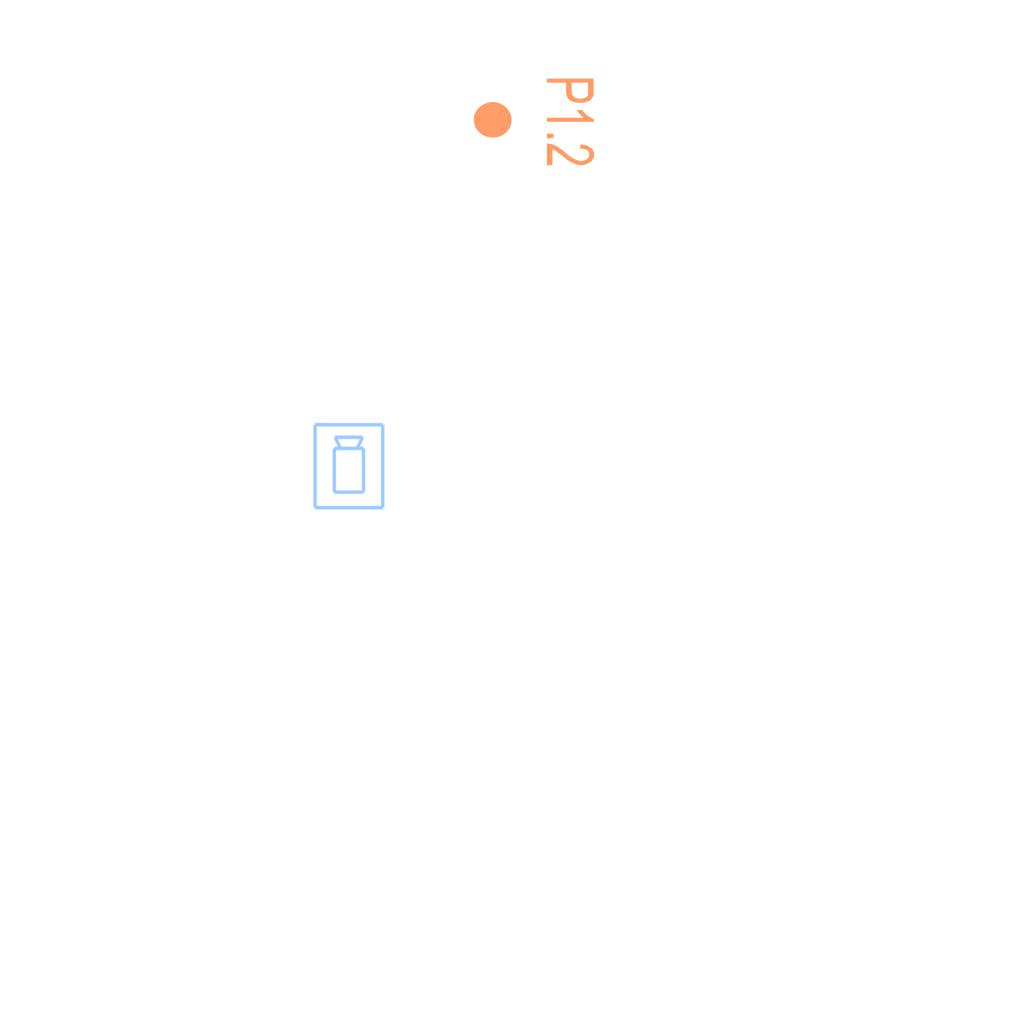Downlight_LED_Einbauleuchten_Flur: (470, 75, 598, 168)
KFO_Kamera_mit_Festobjektiv: (311, 421, 388, 512)
